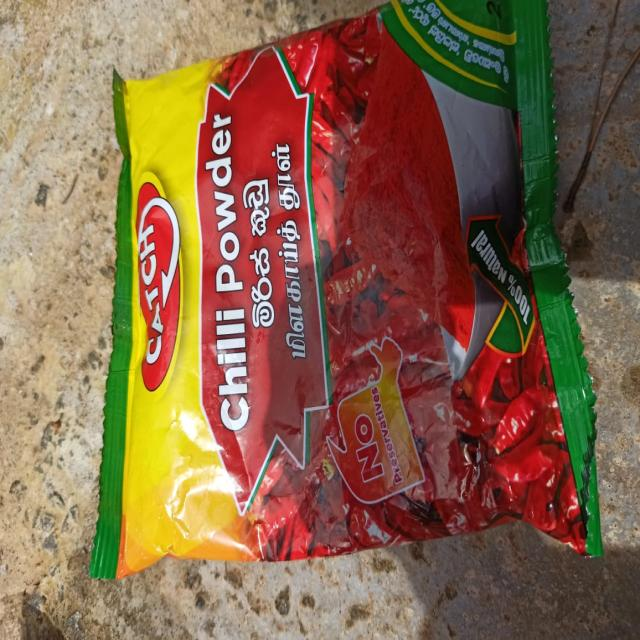Chilli Powder: (92, 0, 606, 640)
